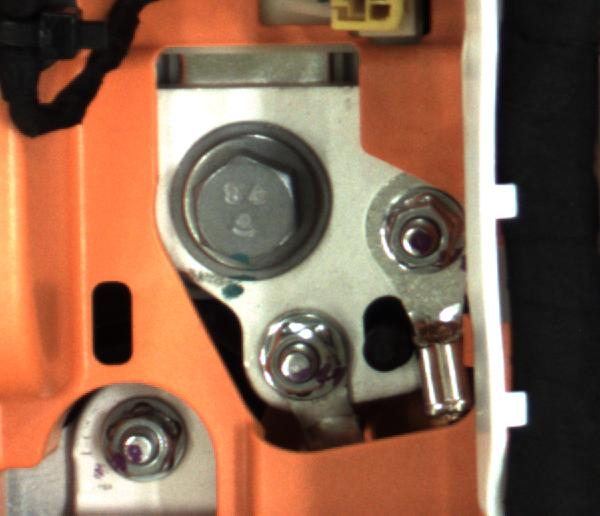nut_b: (163, 119, 339, 282)
screw_s: (371, 189, 480, 276), (256, 325, 367, 408), (102, 399, 200, 477)
